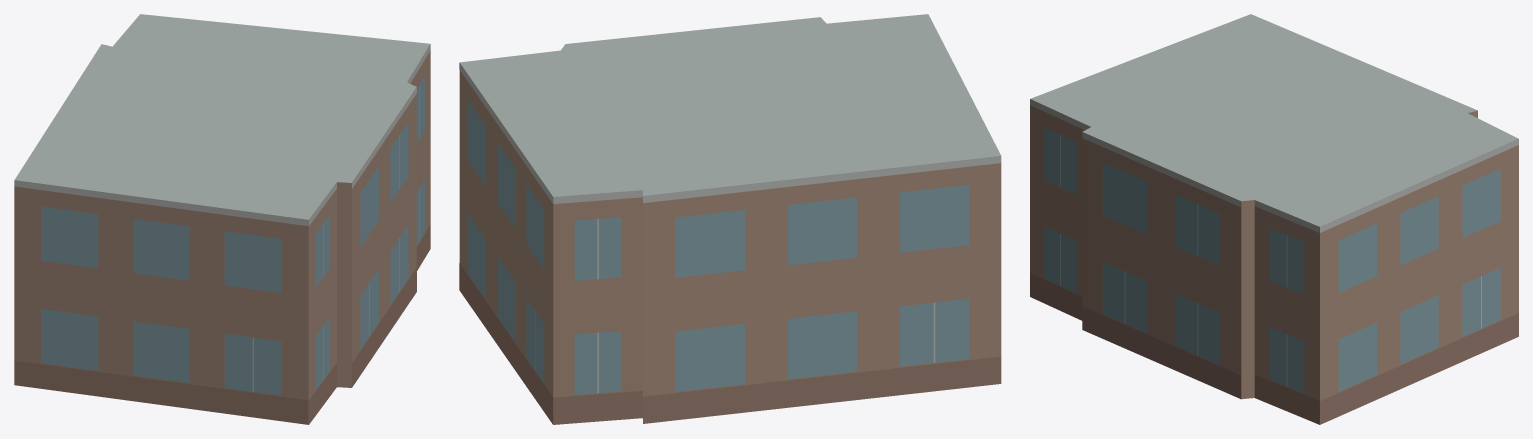
File: survey-upis-32625311.glb
The picture shows the model from 3 angles, left to right: view 1: azimuth 30°, elevation 25°; view 2: azimuth 150°, elevation 25°; view 3: azimuth 270°, elevation 25°; orthographic projection. The views are drawn at different scales.
Visible parts, largest first — view 1: survey-upis-32625311.tmp; view 2: survey-upis-32625311.tmp; view 3: survey-upis-32625311.tmp.
Part boxes in pixels (x1,y1,x2,y2): survey-upis-32625311.tmp: (14, 14, 430, 424); survey-upis-32625311.tmp: (459, 14, 1001, 424); survey-upis-32625311.tmp: (1030, 14, 1518, 424).
Bounding box in the file's own units: 18 × 7.8 × 17.46.
